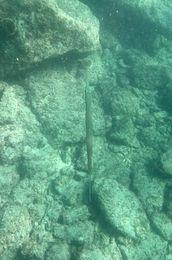Fistularia commersonii: (54, 74, 108, 213)
